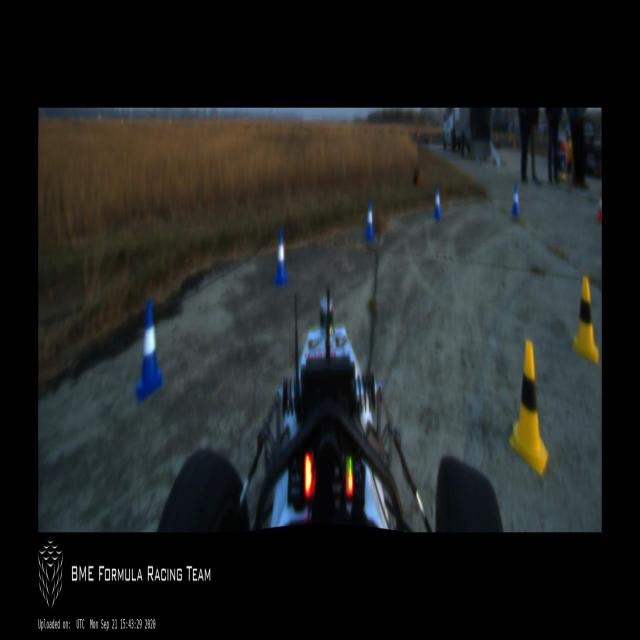blue_cone: (136, 299, 163, 402), (273, 227, 288, 286), (364, 198, 374, 240), (511, 183, 520, 215), (433, 185, 441, 219)
orange_cone: (597, 188, 602, 222)
yellow_cone: (509, 339, 548, 476), (573, 276, 599, 364)
